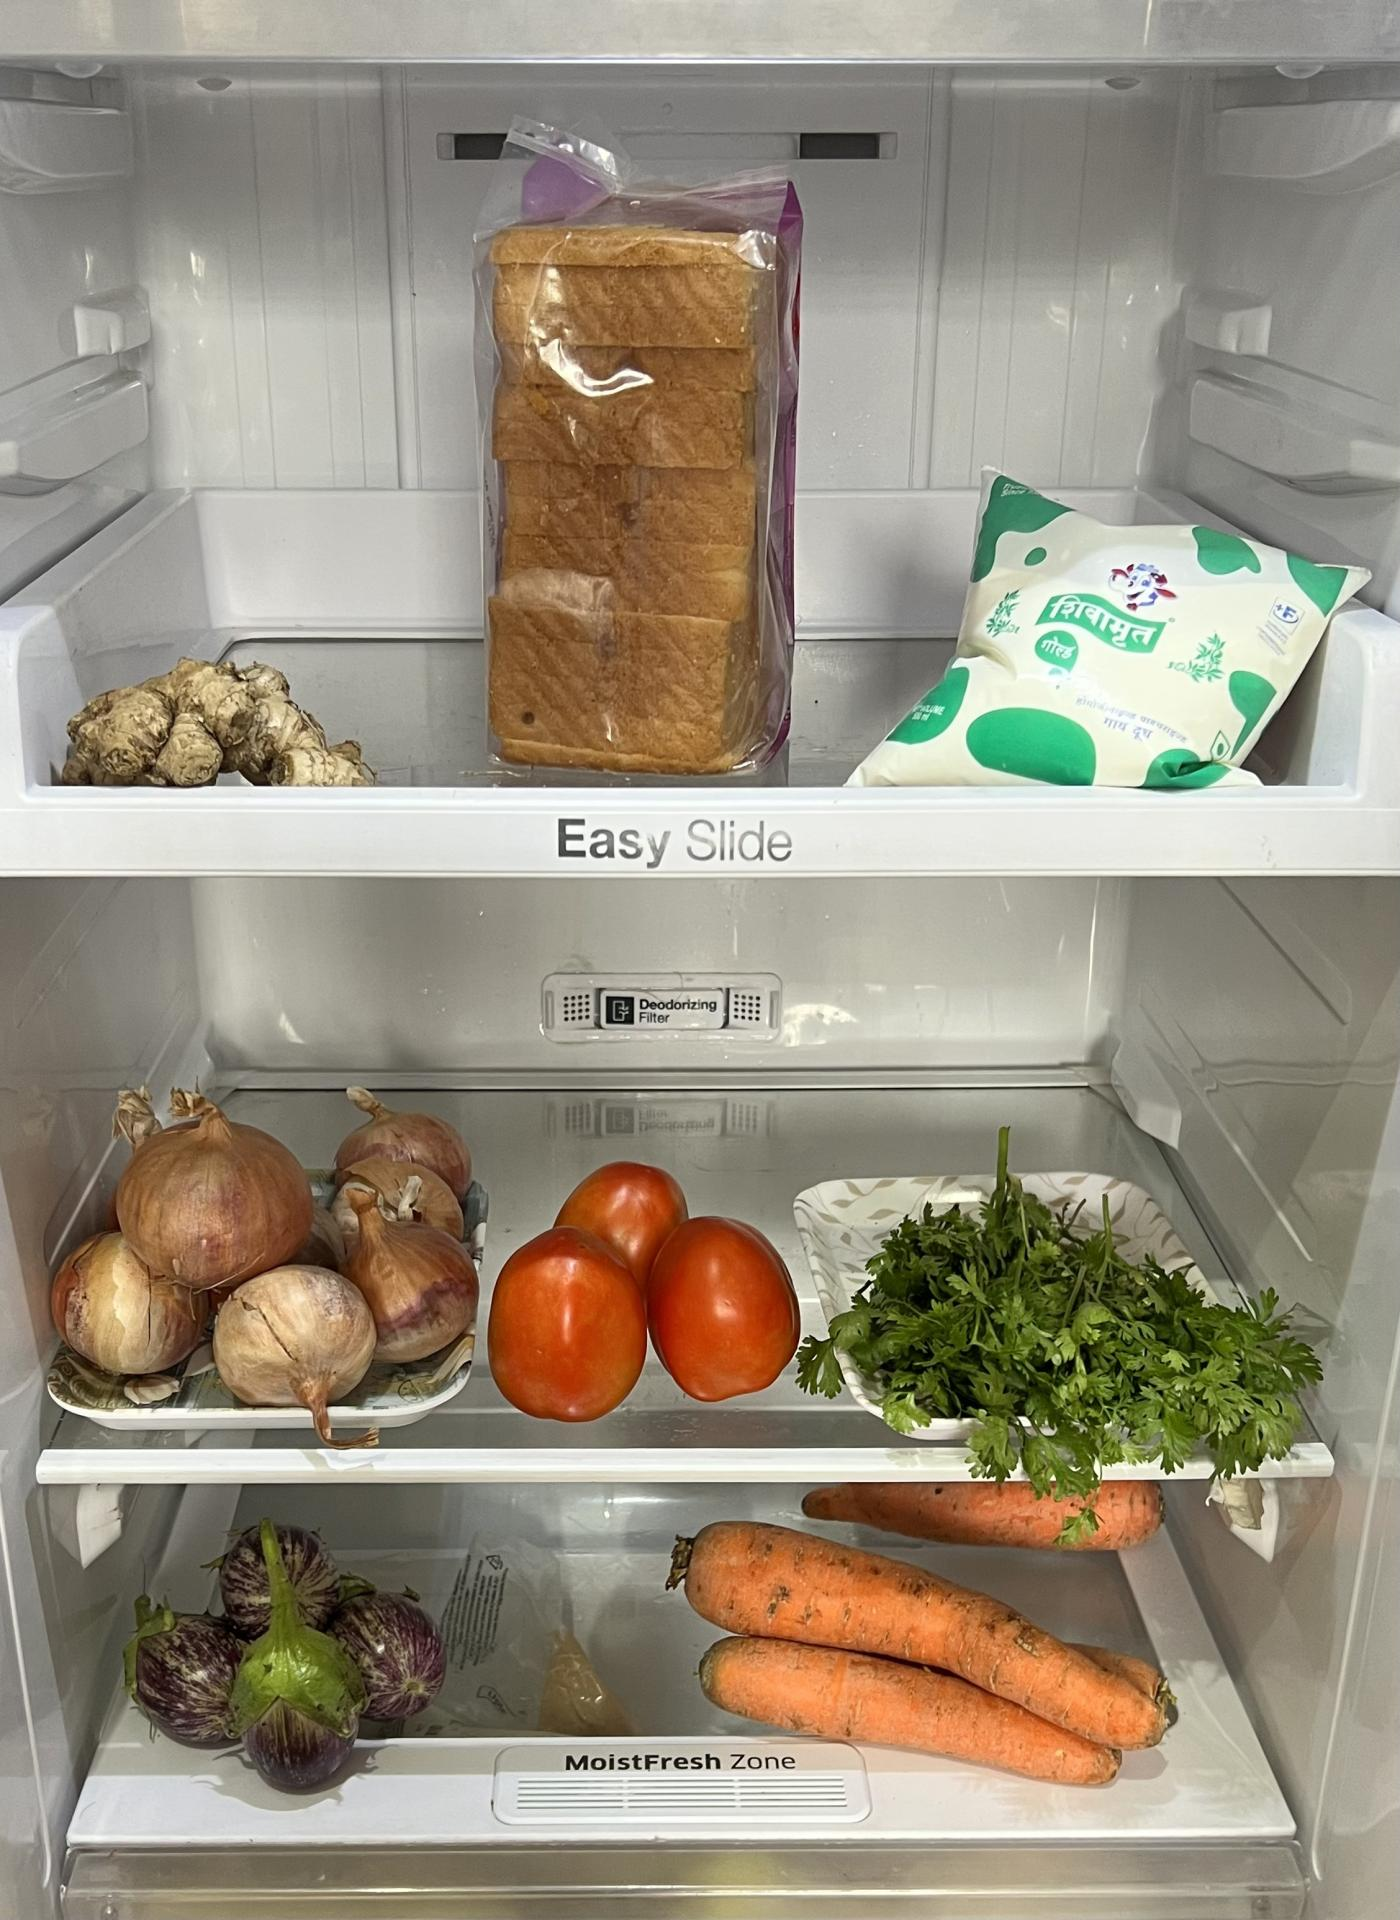bread: (435, 151, 807, 775)
carrots: (660, 1482, 1211, 1789)
coriander: (835, 1191, 1309, 1485)
milk: (874, 459, 1355, 784)
onion: (43, 1085, 483, 1410)
tomato: (492, 1163, 796, 1421)
